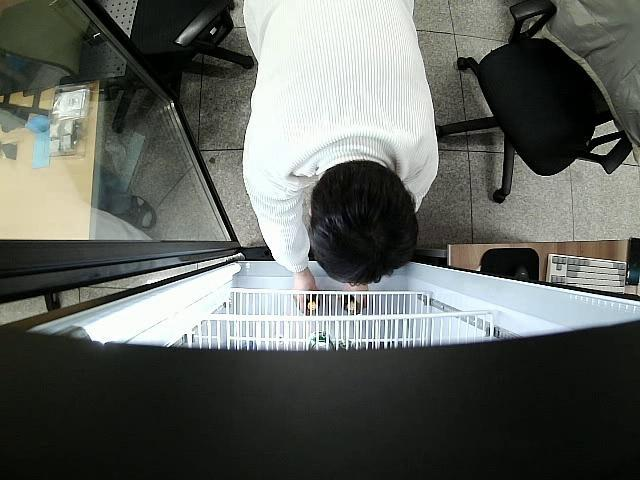17_vita500: (304, 290, 320, 314), (342, 296, 357, 311)
